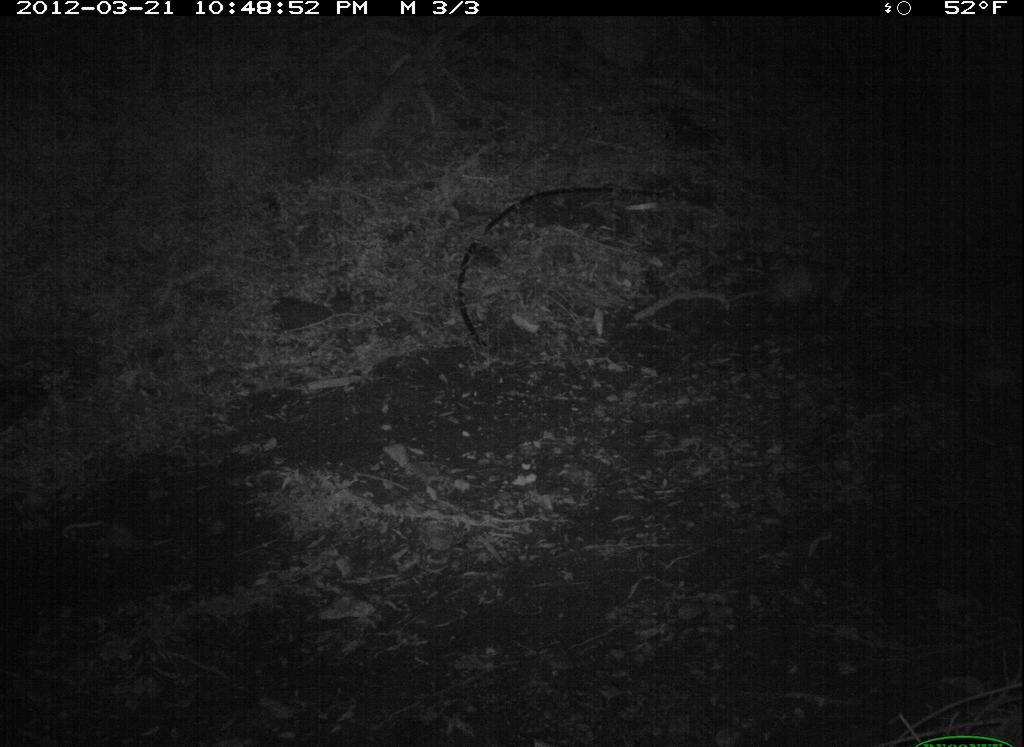opossum: (758, 237, 866, 323)
